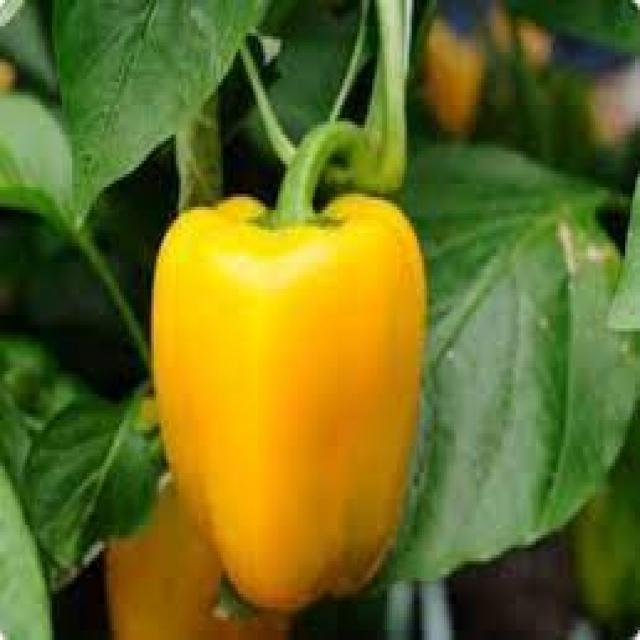Pepper: (148, 194, 430, 614)
